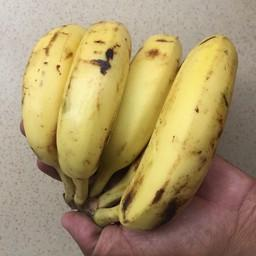Good_banana: (11, 12, 248, 236)
